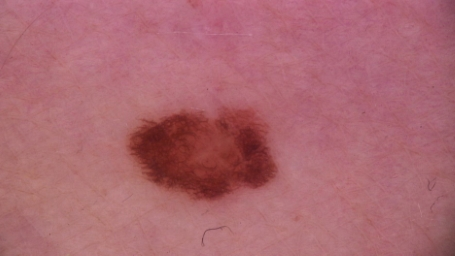melanoma: (132, 110, 283, 201)
